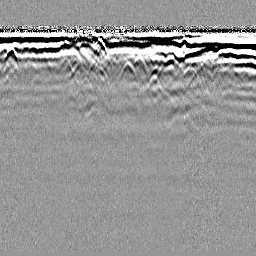cavity: (116, 57, 137, 82)
